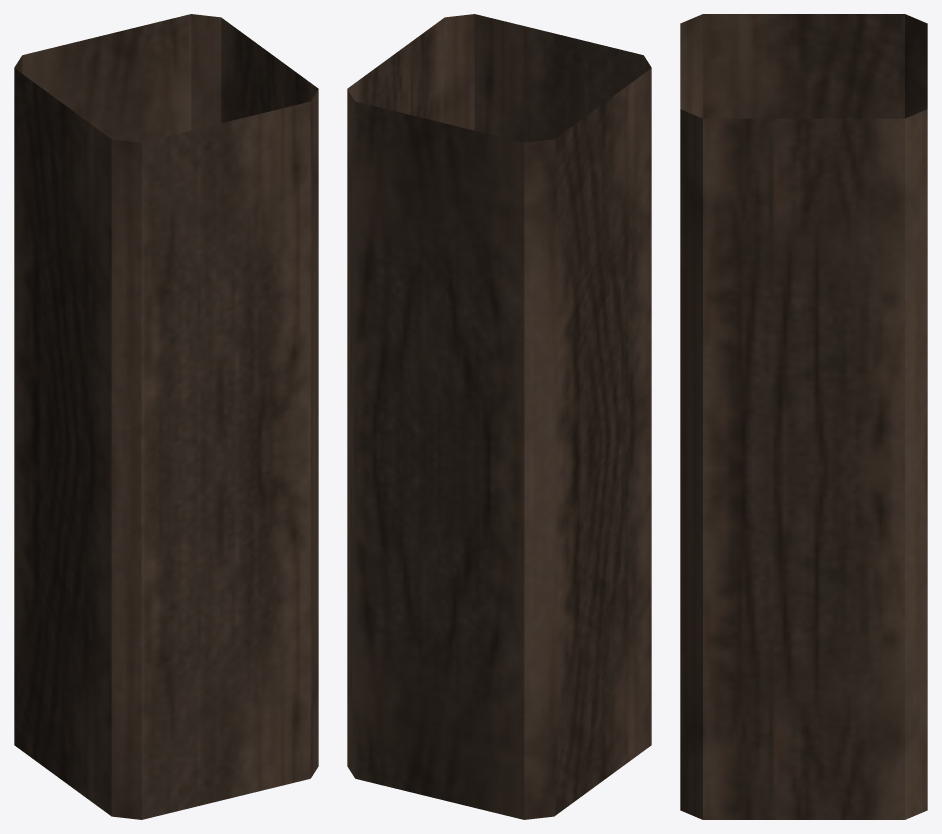
Rendered from Column B x1.fbx.
3 renders of one model, left to right at view 1: azimuth 30°, elevation 25°; view 2: azimuth 150°, elevation 25°; view 3: azimuth 270°, elevation 25°, orthographic. The views are drawn at different scales.
Visible parts, largest first — view 1: Column B x1; view 2: Column B x1; view 3: Column B x1.
Boxes of the visible parts, x1,y1,x2,y2 form: Column B x1: (14,14,318,819); Column B x1: (347,14,651,819); Column B x1: (680,14,927,819).
Bounding box in the file's own units: 0.32 × 1 × 0.32.
